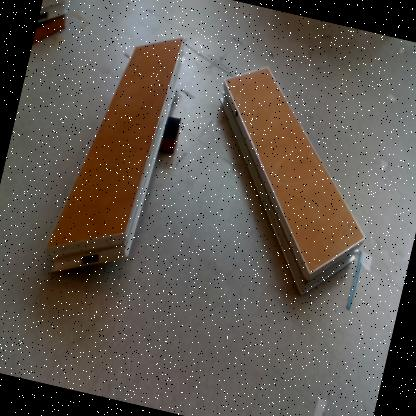Stairs: (45, 31, 187, 278), (221, 69, 365, 297), (38, 1, 68, 26)
